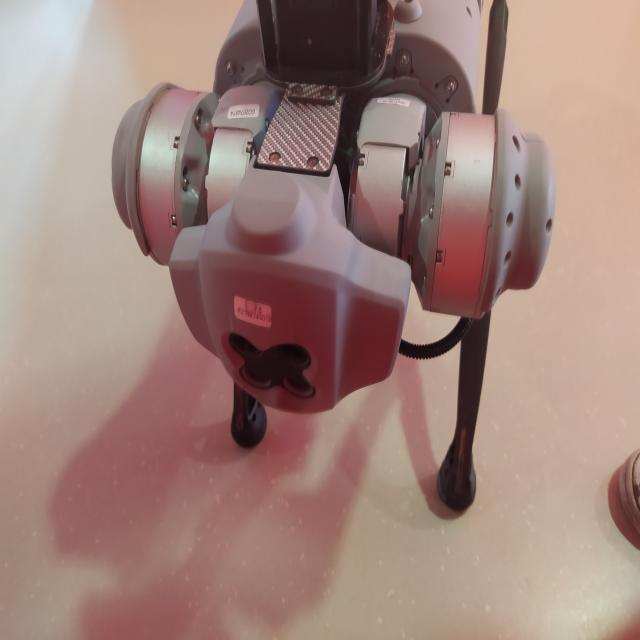unitree-go1-robot: (107, 1, 562, 526)
